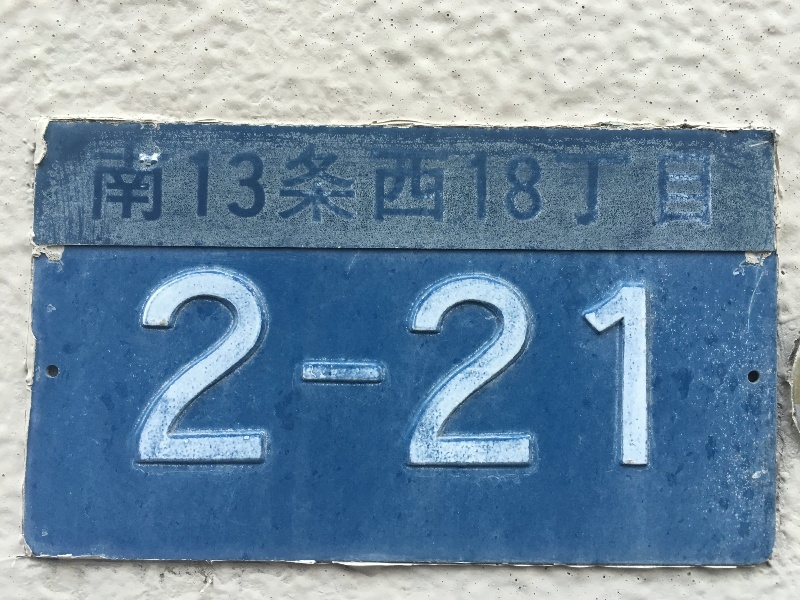text: (145, 265, 160, 469), (161, 265, 176, 469), (177, 265, 192, 469), (193, 265, 208, 469), (209, 265, 224, 469), (225, 265, 240, 469), (241, 265, 256, 469), (257, 265, 272, 469), (273, 265, 288, 469), (289, 265, 304, 469), (305, 265, 320, 469), (321, 265, 336, 469), (337, 265, 352, 469), (353, 265, 368, 469), (369, 265, 384, 469), (385, 265, 400, 469), (401, 265, 416, 469), (417, 265, 432, 469), (433, 265, 448, 469), (449, 265, 464, 469), (465, 265, 480, 469), (481, 265, 496, 469), (497, 265, 512, 469), (513, 265, 528, 469), (529, 265, 544, 469), (545, 265, 560, 469), (561, 265, 576, 469), (577, 265, 592, 469), (593, 265, 608, 469), (609, 265, 624, 469), (625, 265, 640, 469), (641, 265, 652, 469), (97, 144, 112, 229), (113, 144, 128, 229), (129, 144, 144, 229), (145, 144, 160, 229), (161, 144, 176, 229), (177, 144, 192, 229), (193, 144, 208, 229), (209, 144, 224, 229), (225, 144, 240, 229), (241, 144, 256, 229), (257, 144, 272, 229), (273, 144, 288, 229), (289, 144, 304, 229), (305, 144, 320, 229), (321, 144, 336, 229), (337, 144, 352, 229), (353, 144, 368, 229), (369, 144, 384, 229), (385, 144, 400, 229), (401, 144, 416, 229), (417, 144, 432, 229), (433, 144, 448, 229), (449, 144, 464, 229), (465, 144, 480, 229), (481, 144, 496, 229), (497, 144, 512, 229), (513, 144, 528, 229), (529, 144, 544, 229), (545, 144, 560, 229), (561, 144, 576, 229), (577, 144, 592, 229), (593, 144, 608, 229), (609, 144, 624, 229), (625, 144, 640, 229), (641, 144, 656, 229), (657, 144, 672, 229), (673, 144, 688, 229), (689, 144, 704, 229), (705, 144, 715, 229), (143, 265, 144, 469), (94, 144, 96, 229)
